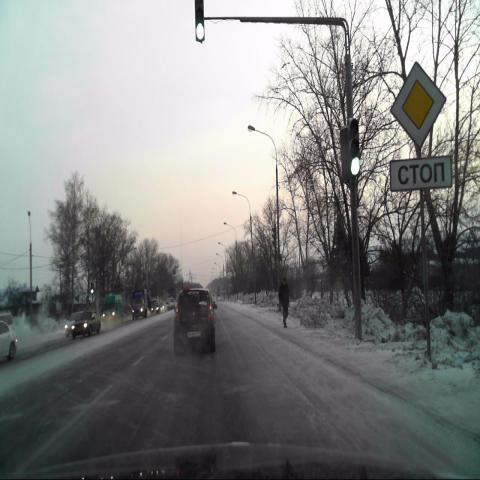2_1: (391, 61, 447, 147)
